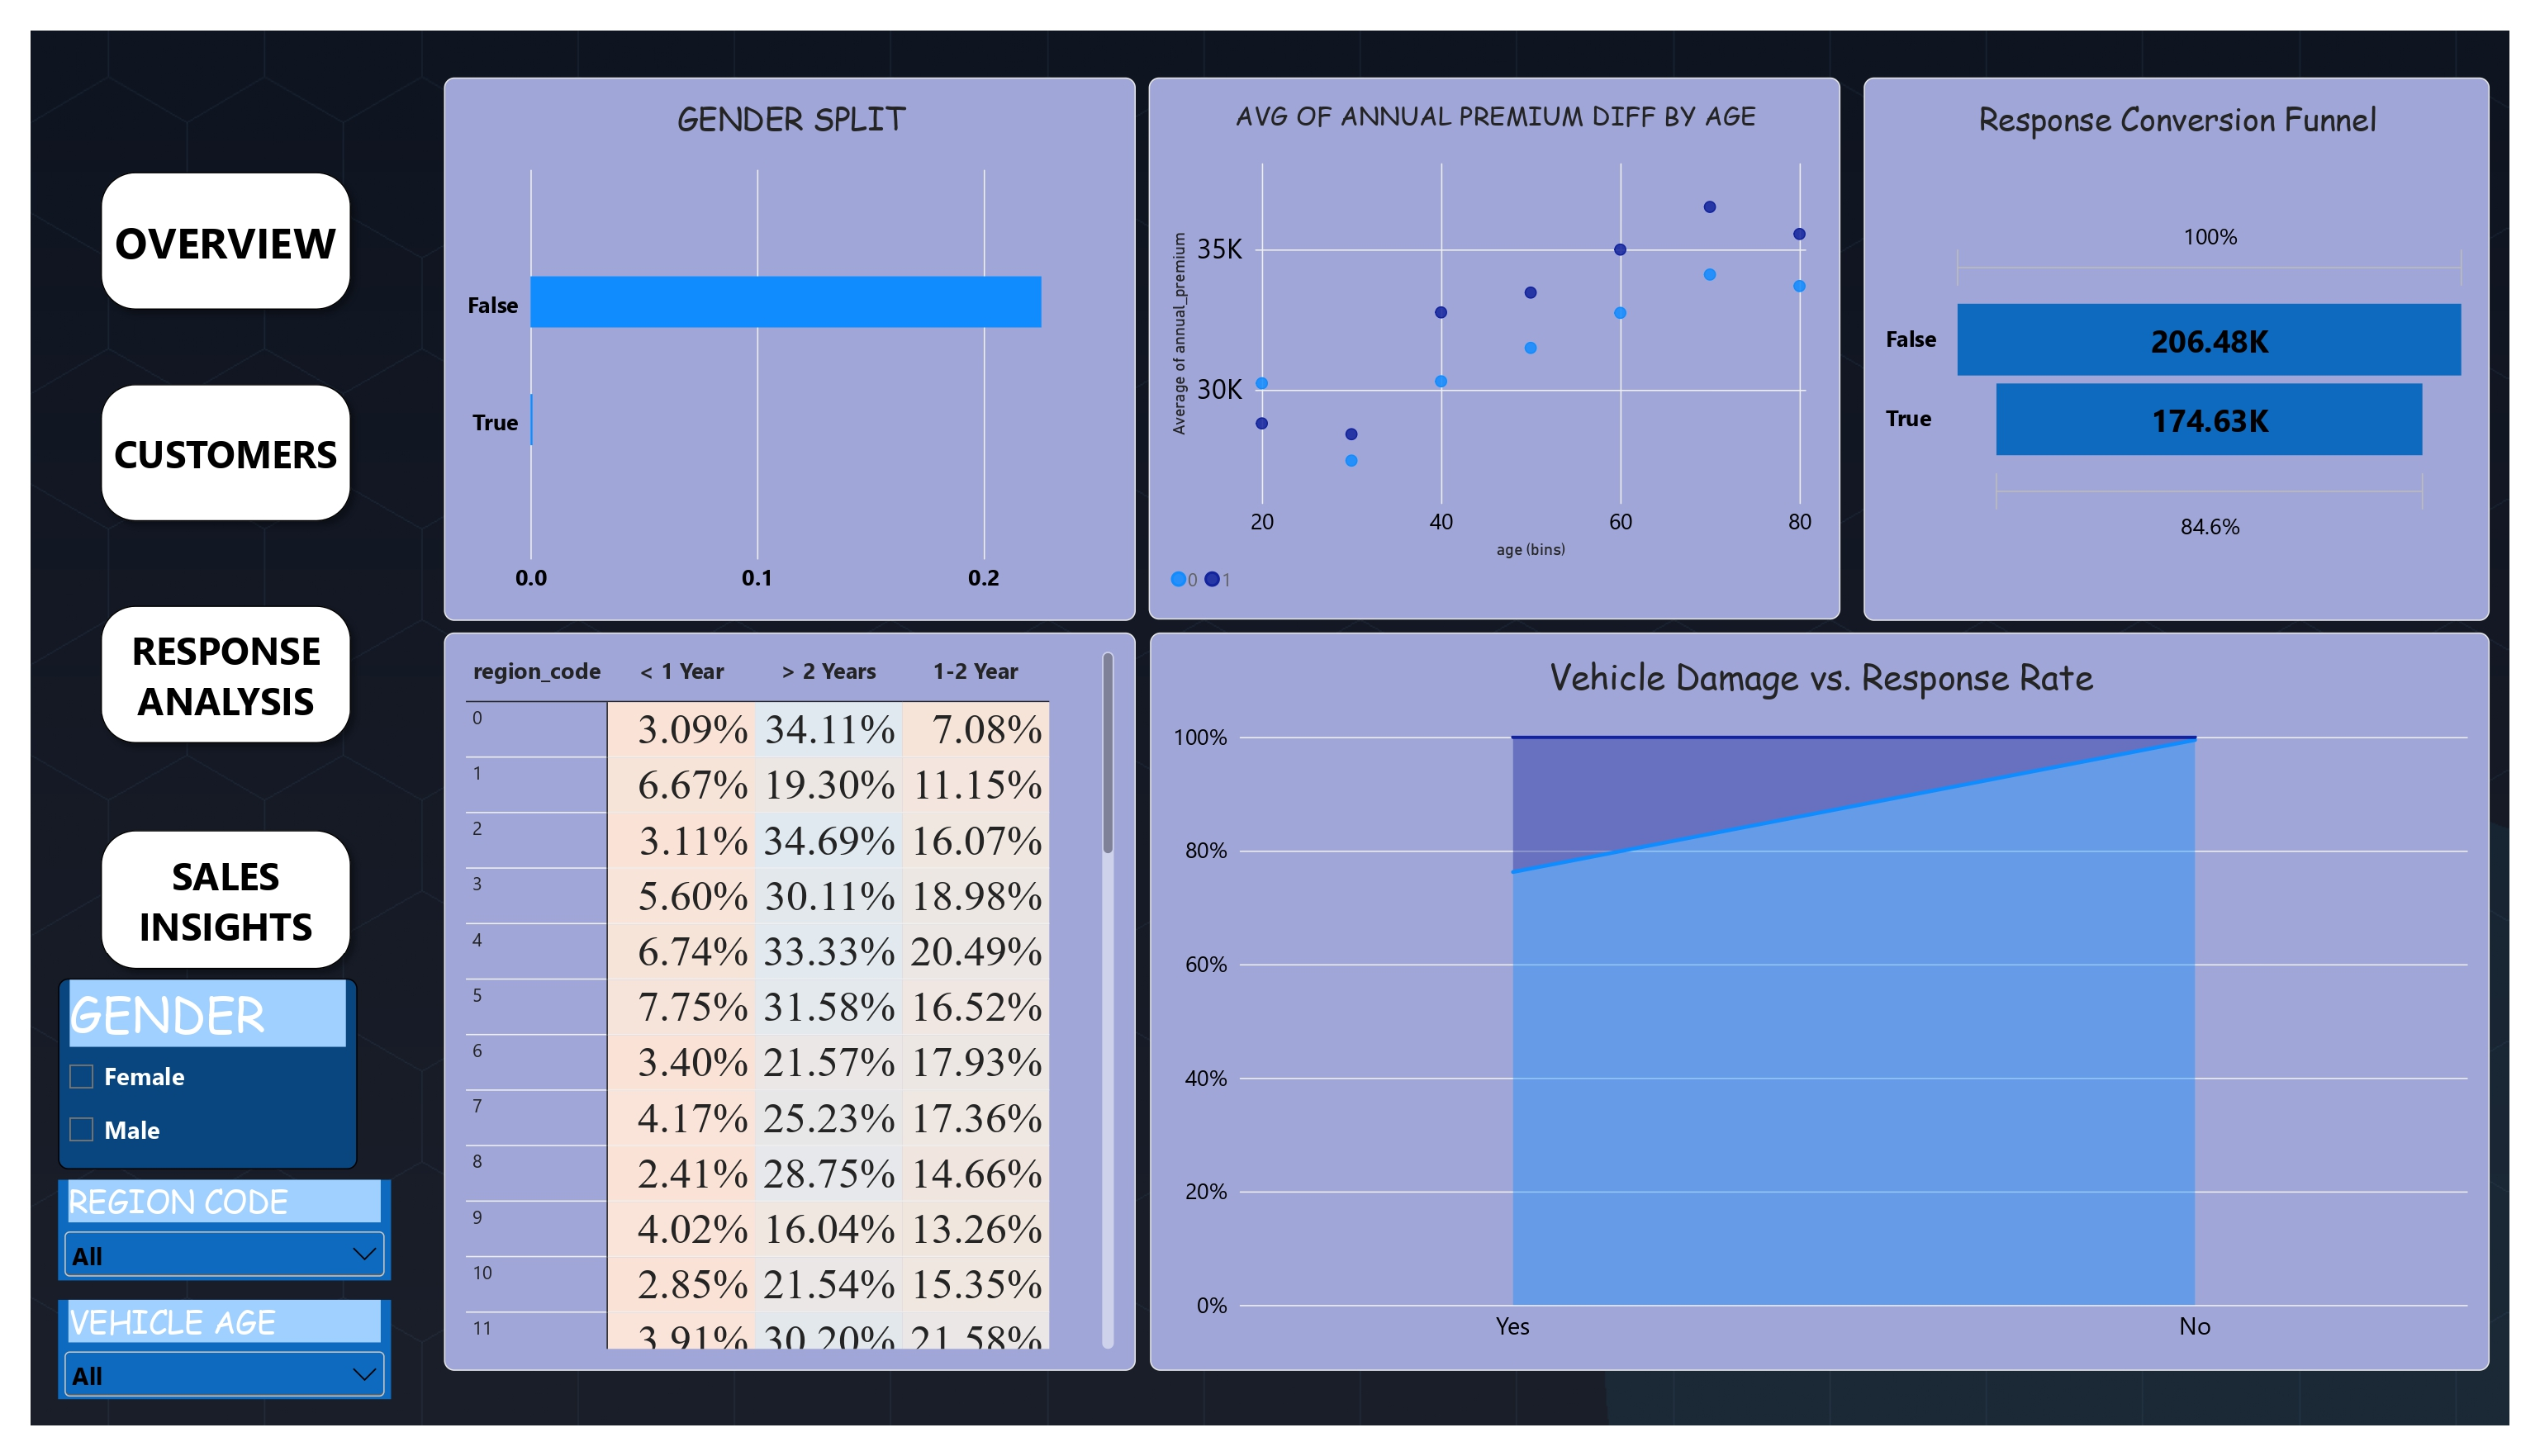

Layout of this report page (visuals, bound fields, positions):
{"tool":"powerbi","page":{"name":"RESPONSE ANALYSIS","canvas":[1920,1080],"ordinal":2},"visuals":[{"type":"shape","box":[44.6,99.9,212.6,125.4],"z":0},{"type":"shape","box":[44.6,263.6,212.6,125.4],"z":1000},{"type":"shape","box":[44.6,435.8,212.6,125.4],"z":2000},{"type":"shape","box":[44.6,610.2,212.6,125.4],"z":3000},{"type":"slicer","fields":{"Values":["Sheet1.gender"]},"box":[21.5,733.7,231.7,148],"z":4000},{"type":"slicer","fields":{"Values":["Sheet1.region_code"]},"box":[21.5,890.3,257.4,77.2],"z":5000},{"type":"slicer","fields":{"Values":["Sheet1.vehicle_age"]},"box":[21.5,982.5,257.4,77.2],"z":6000},{"type":"clusteredBarChart","title":"GENDER SPLIT  ","fields":{"Category":["Sheet1.previously_insured"],"Y":["Avg(Sheet1.response)"]},"box":[319.6,36.5,536.3,420.5],"z":7000},{"type":"scatterChart","title":"AVG OF ANNUAL PREMIUM DIFF BY AGE ","fields":{"Series":["Sheet1.response"],"X":["Sheet1.age (bins)"],"Y":["Avg(Sheet1.annual_premium)"]},"box":[866,36,536,420],"z":8000},{"type":"funnel","title":"Response Conversion Funnel","fields":{"Category":["Sheet1.previously_insured"],"Y":["CountNonNull(Sheet1.id)"]},"box":[1420.2,36.5,484.8,420.5],"z":9000},{"type":"pivotTable","fields":{"Columns":["Sheet1.vehicle_age"],"Rows":["Sheet1.region_code"],"Values":["Avg(Sheet1.response)"]},"box":[319.6,465.5,536.3,572.8],"z":10000},{"type":"hundredPercentStackedAreaChart","title":"Vehicle Damage vs. Response Rate","fields":{"Category":["Sheet1.vehicle_damage"],"Series":["Sheet1.response"],"Y":["CountNonNull(Sheet1.id)"]},"box":[866.7,465.5,1038.3,572.8],"z":11000}]}

Visuals, with their boxes on the page's 1920x1080 design canvas (x1, y1, x2, y2). These are canvas units, not pixel positions in the 2540x1456 screenshot, which may show the page scaled, cropped or inside an application window:
shape: (left=45, top=100, right=257, bottom=225)
shape: (left=45, top=264, right=257, bottom=389)
shape: (left=45, top=436, right=257, bottom=561)
shape: (left=45, top=610, right=257, bottom=736)
slicer - Sheet1.gender: (left=22, top=734, right=253, bottom=882)
slicer - Sheet1.region_code: (left=22, top=890, right=279, bottom=968)
slicer - Sheet1.vehicle_age: (left=22, top=982, right=279, bottom=1060)
"GENDER SPLIT  " clusteredBarChart: (left=320, top=36, right=856, bottom=457)
"AVG OF ANNUAL PREMIUM DIFF BY AGE " scatterChart: (left=866, top=36, right=1402, bottom=456)
"Response Conversion Funnel" funnel: (left=1420, top=36, right=1905, bottom=457)
pivotTable - Sheet1.vehicle_age x Sheet1.region_code: (left=320, top=466, right=856, bottom=1038)
"Vehicle Damage vs. Response Rate" hundredPercentStackedAreaChart: (left=867, top=466, right=1905, bottom=1038)
